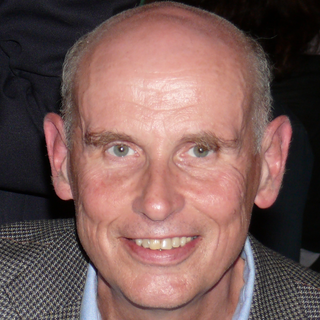eye: (179, 141, 224, 162), (99, 140, 143, 161)
